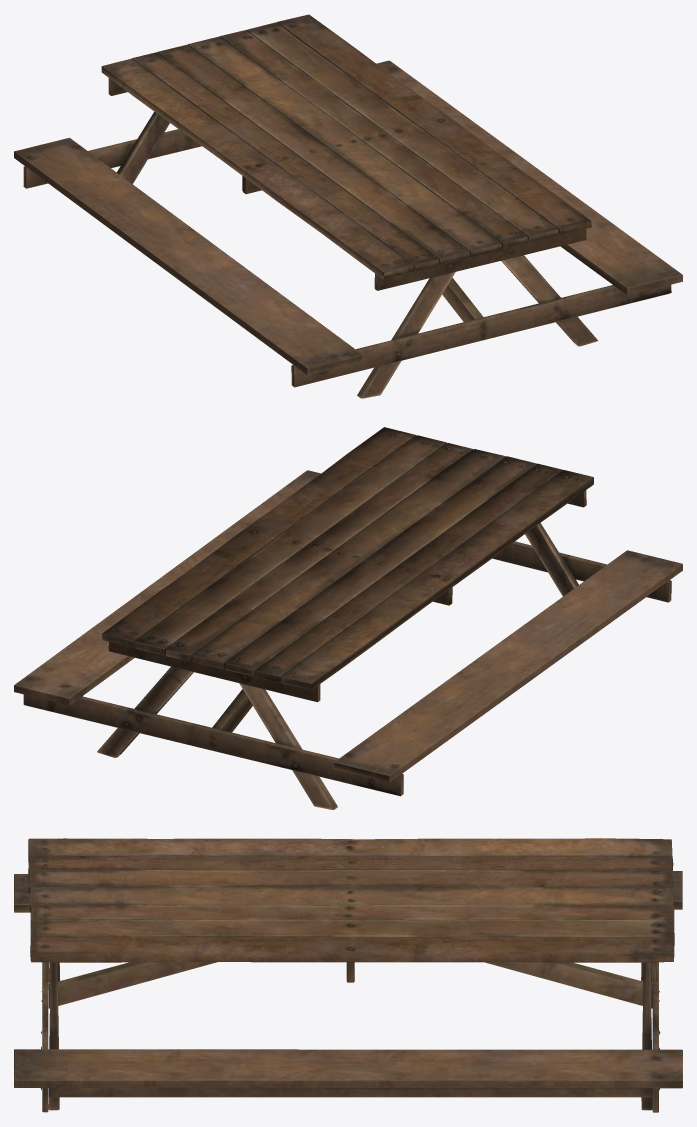
The model's file is ph_picnic_table.glb.
3 views of the same model, one above another, from view 1: azimuth 30°, elevation 25°; view 2: azimuth 150°, elevation 25°; view 3: azimuth 270°, elevation 25° (orthographic). The views are drawn at different scales.
Parts seen in each view (by area): view 1: wooden_picnic_table; view 2: wooden_picnic_table; view 3: wooden_picnic_table.
Part boxes in pixels (box(x1,y1,x2,y2)): wooden_picnic_table: box(14, 14, 682, 398); wooden_picnic_table: box(14, 427, 682, 809); wooden_picnic_table: box(14, 838, 682, 1112).
Bounding box in the file's own units: 2.24 × 0.7462 × 3.02.
Materials: 2 (2 with a texture image).
